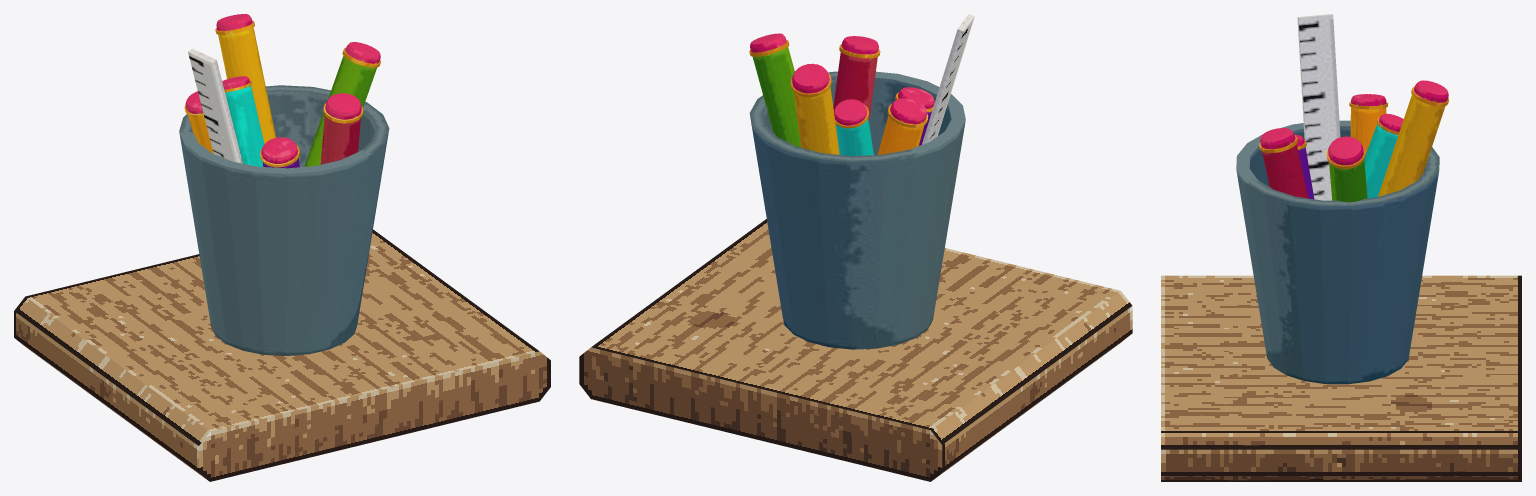
Rendered from cup.glb.
3 renders of one model, left to right at view 1: azimuth 30°, elevation 25°; view 2: azimuth 150°, elevation 25°; view 3: azimuth 270°, elevation 25°, orthographic. The views are drawn at different scales.
Visible parts, largest first — view 1: base, model_m; view 2: base, model_m; view 3: base, model_m.
Part boxes in pixels (left/top/right/bottom): base: left=14, top=229, right=550, bottom=481; model_m: left=179, top=14, right=389, bottom=355; base: left=579, top=219, right=1132, bottom=481; model_m: left=749, top=14, right=974, bottom=349; base: left=1161, top=275, right=1521, bottom=481; model_m: left=1236, top=14, right=1449, bottom=384.
Size of the model in its own units: 22 by 21 by 20.
Materials: 2 (2 with a texture image).
